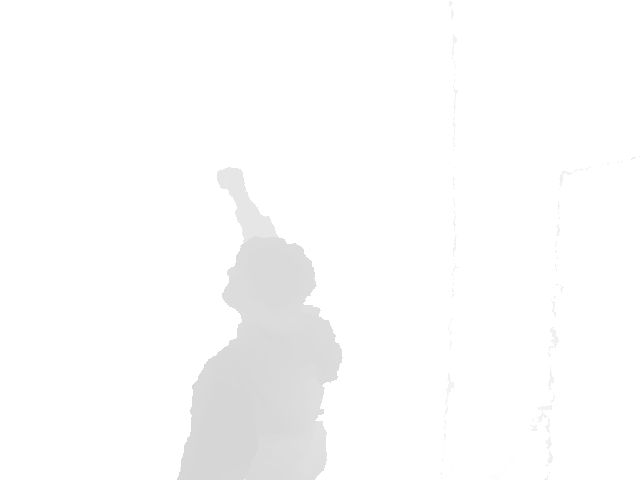hand: (216, 167, 253, 198)
head: (221, 234, 317, 330)
person: (174, 165, 343, 480)
